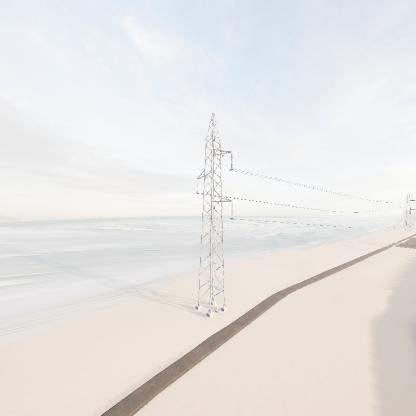tower: (194, 109, 236, 319)
